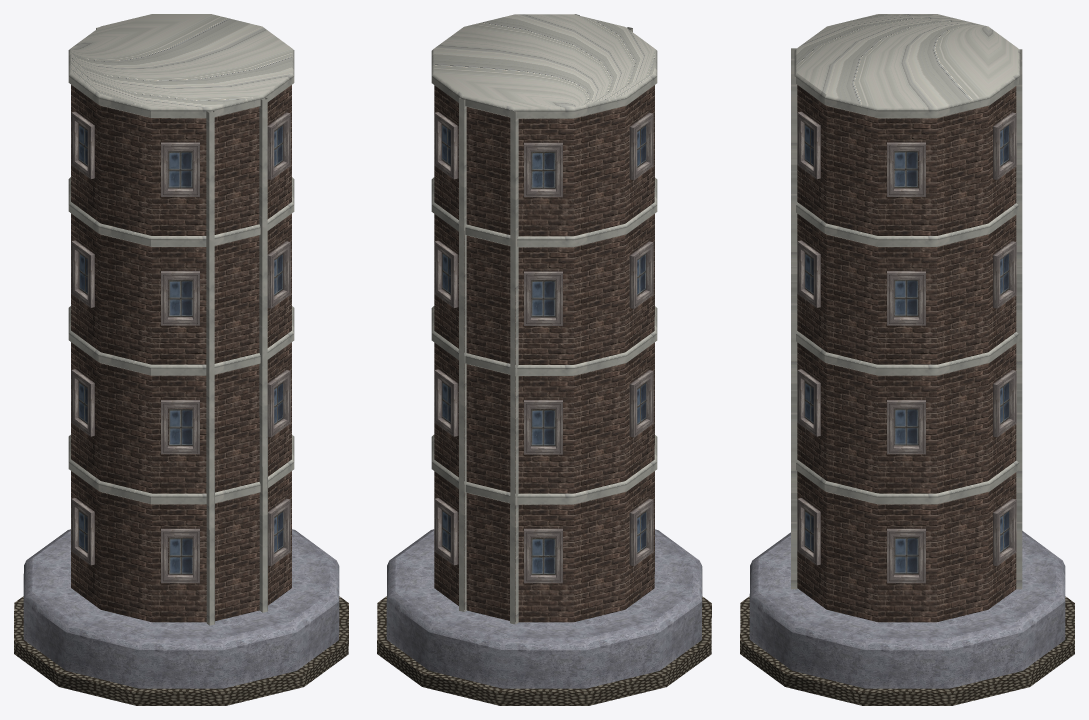
The model's file is adrews_pisya.fbx.
The picture shows the model from 3 angles, left to right: view 1: azimuth 30°, elevation 25°; view 2: azimuth 150°, elevation 25°; view 3: azimuth 270°, elevation 25°; orthographic projection.
Parts seen in each view (by area): view 1: Brick_wall.003, Brick_wall.010, Brick_wall.009, window5.001; view 2: Brick_wall.003, Brick_wall.010, Brick_wall.009, window5.001; view 3: Brick_wall.003, Brick_wall.010, Brick_wall.009, window5.001.
Part boxes in pixels (<box>): Brick_wall.003: <box>68,14,294,625</box>; Brick_wall.010: <box>14,529,348,705</box>; Brick_wall.009: <box>71,73,294,583</box>; window5.001: <box>78,124,283,574</box>; Brick_wall.003: <box>431,14,657,624</box>; Brick_wall.010: <box>377,529,711,705</box>; Brick_wall.009: <box>434,112,653,583</box>; window5.001: <box>441,124,646,574</box>; Brick_wall.003: <box>791,14,1022,622</box>; Brick_wall.010: <box>740,531,1074,705</box>; Brick_wall.009: <box>795,73,1016,583</box>; window5.001: <box>804,123,1009,574</box>.
Size of the model in its own units: 1132 by 1132 by 2144.
